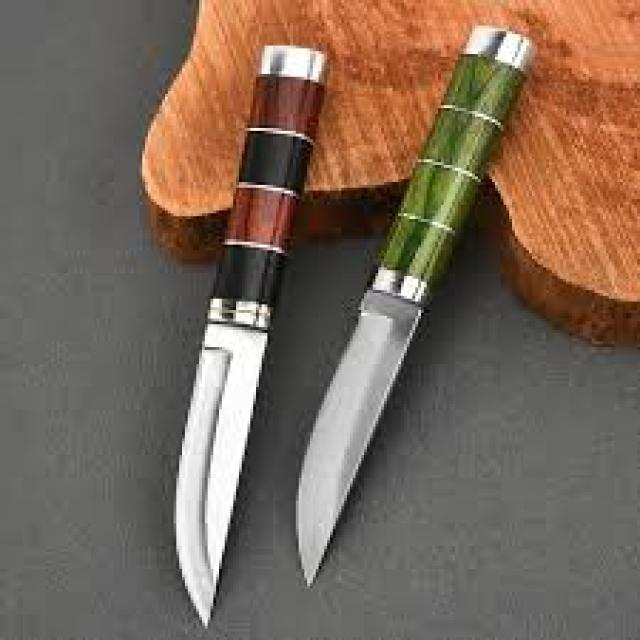Knife: (296, 26, 532, 583), (176, 48, 321, 626)
